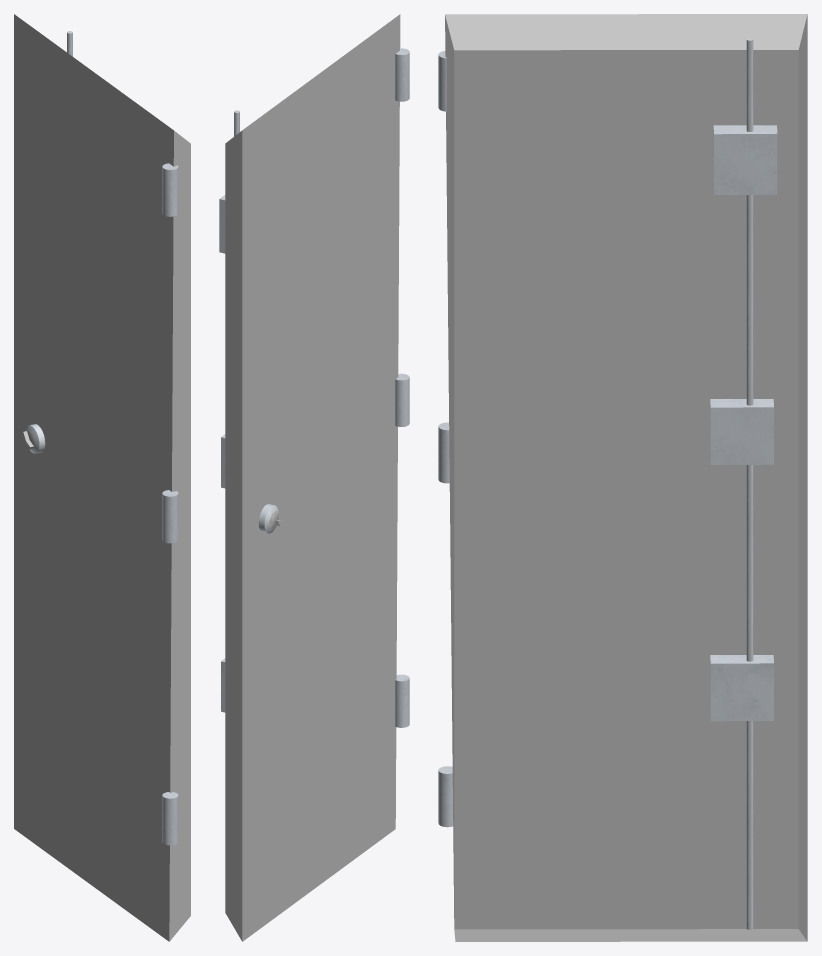
Rendered from SM_CabinetSingleDoor.fbx.
3 renders of one model, left to right at view 1: azimuth 30°, elevation 25°; view 2: azimuth 150°, elevation 25°; view 3: azimuth 270°, elevation 25°, orthographic. The views are drawn at different scales.
Parts seen in each view (by area): view 1: SM_CabinetSingleDoor_LOD0; view 2: SM_CabinetSingleDoor_LOD0; view 3: SM_CabinetSingleDoor_LOD0.
Part boxes in pixels (<box>): SM_CabinetSingleDoor_LOD0: <box>14,14,190,941</box>; SM_CabinetSingleDoor_LOD0: <box>219,14,409,941</box>; SM_CabinetSingleDoor_LOD0: <box>438,14,807,941</box>.
Bounding box in the file's own units: 18.33 × 105 × 292.
